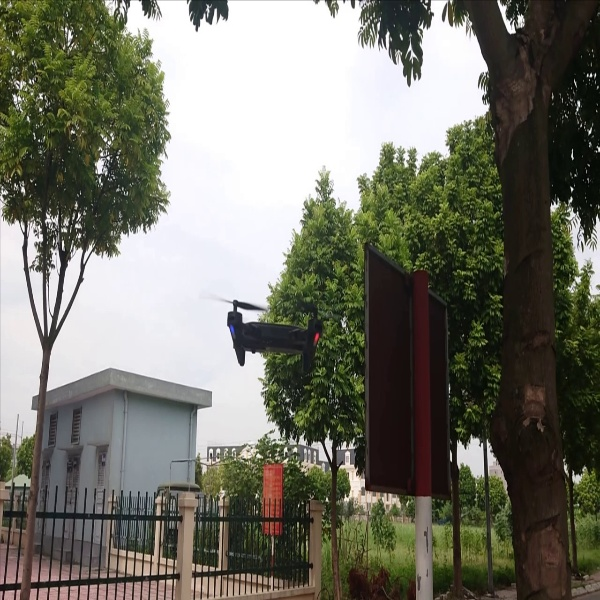drone: (202, 291, 336, 374)
